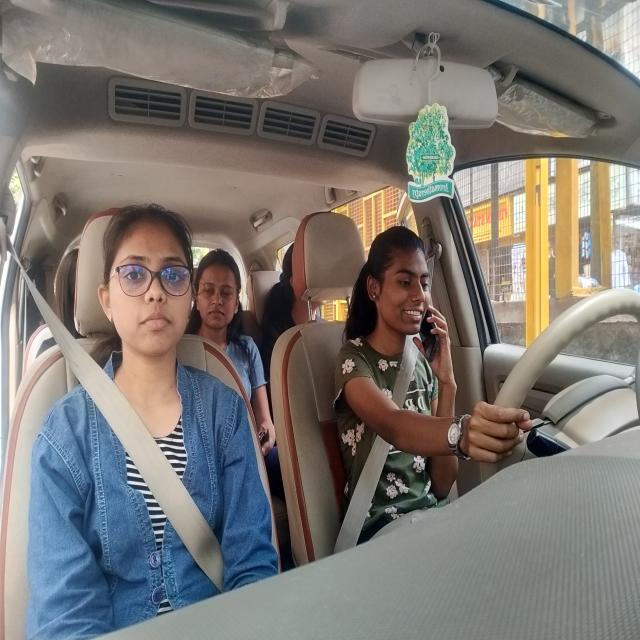mobile: (422, 312, 447, 366)
person: (94, 200, 194, 354), (361, 221, 430, 333), (196, 247, 244, 341)
